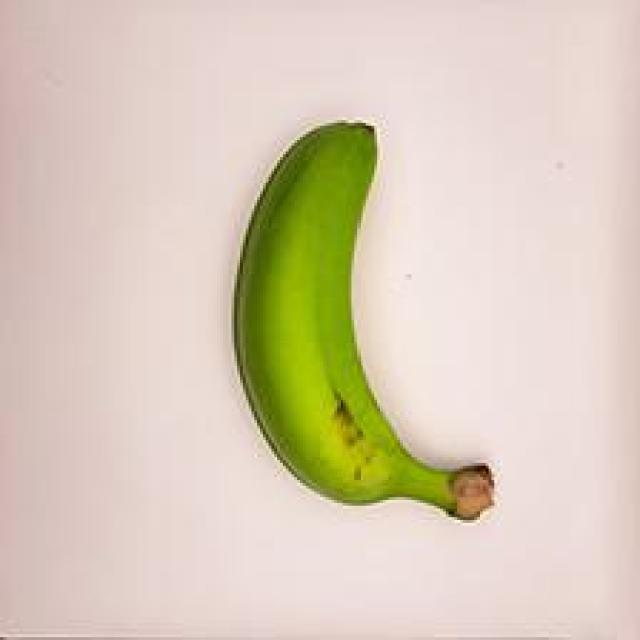raw: (179, 82, 522, 583)
